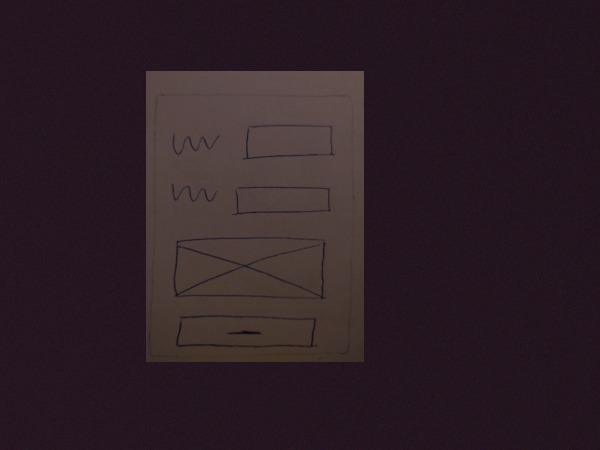button: (168, 313, 324, 351)
image: (166, 232, 336, 307)
text: (165, 126, 222, 158), (166, 179, 219, 209)
text_input: (237, 120, 341, 163), (227, 181, 335, 220)
